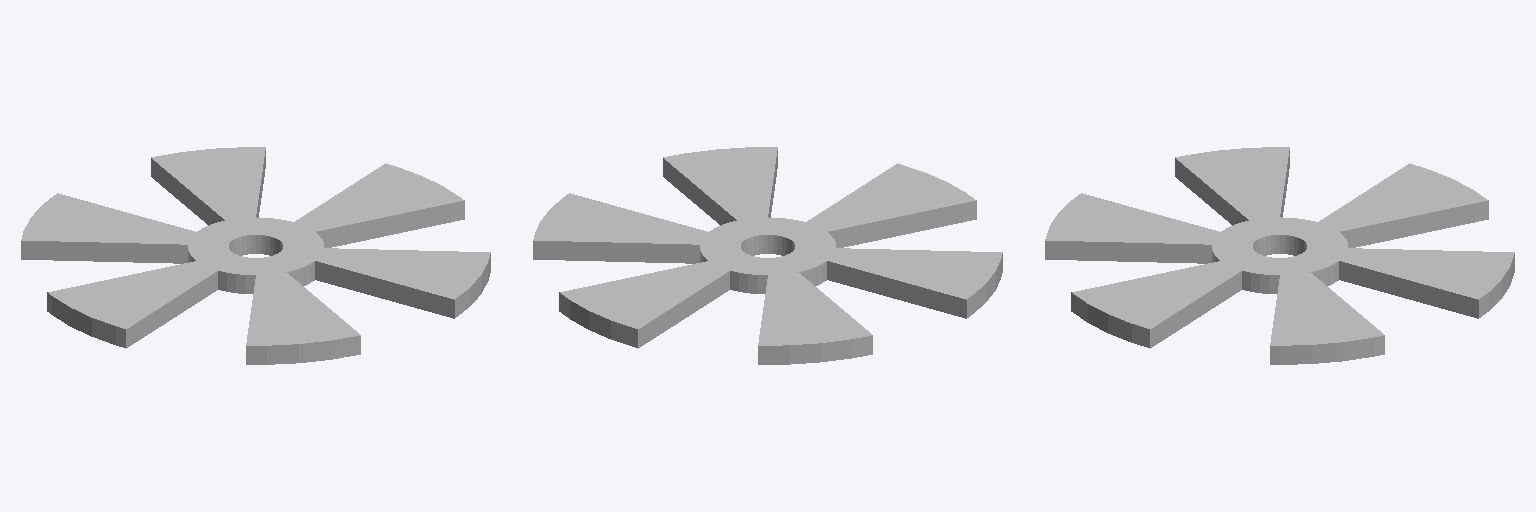
File: wheel_L.obj
3 renders of one model, left to right at view 1: azimuth 30°, elevation 25°; view 2: azimuth 150°, elevation 25°; view 3: azimuth 270°, elevation 25°, orthographic.
Visible parts, largest first — view 1: wheel; view 2: wheel; view 3: wheel.
Boxes of the visible parts, x1,y1,x2,y2 form: wheel: [21, 147, 490, 364]; wheel: [533, 147, 1002, 364]; wheel: [1045, 147, 1514, 364].
Size of the model in its own units: 0.103 by 0.0046 by 0.1028.